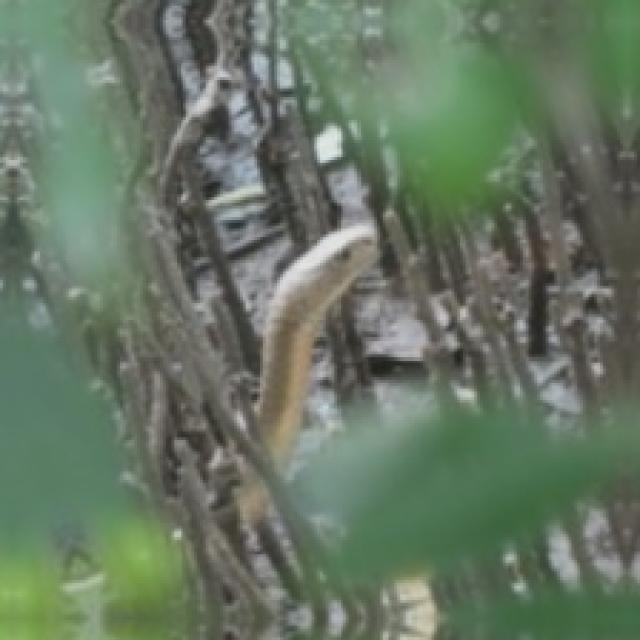king cobra: (256, 224, 378, 466), (236, 478, 270, 526)
